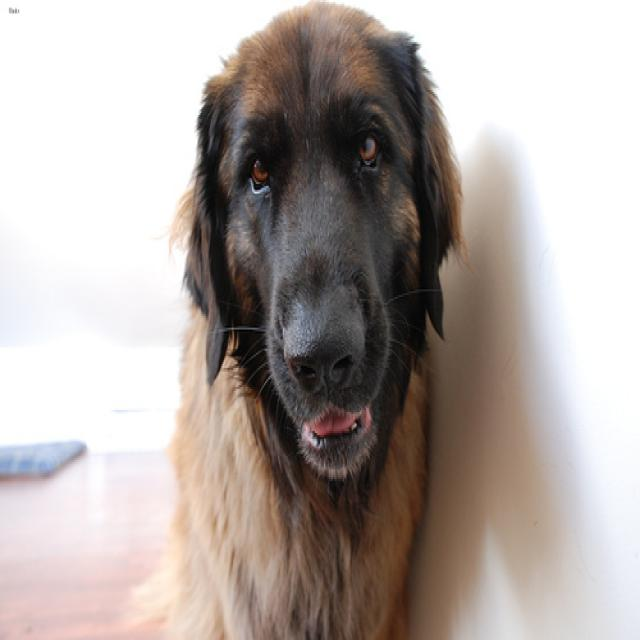dog-leonberger: (122, 2, 477, 636)
